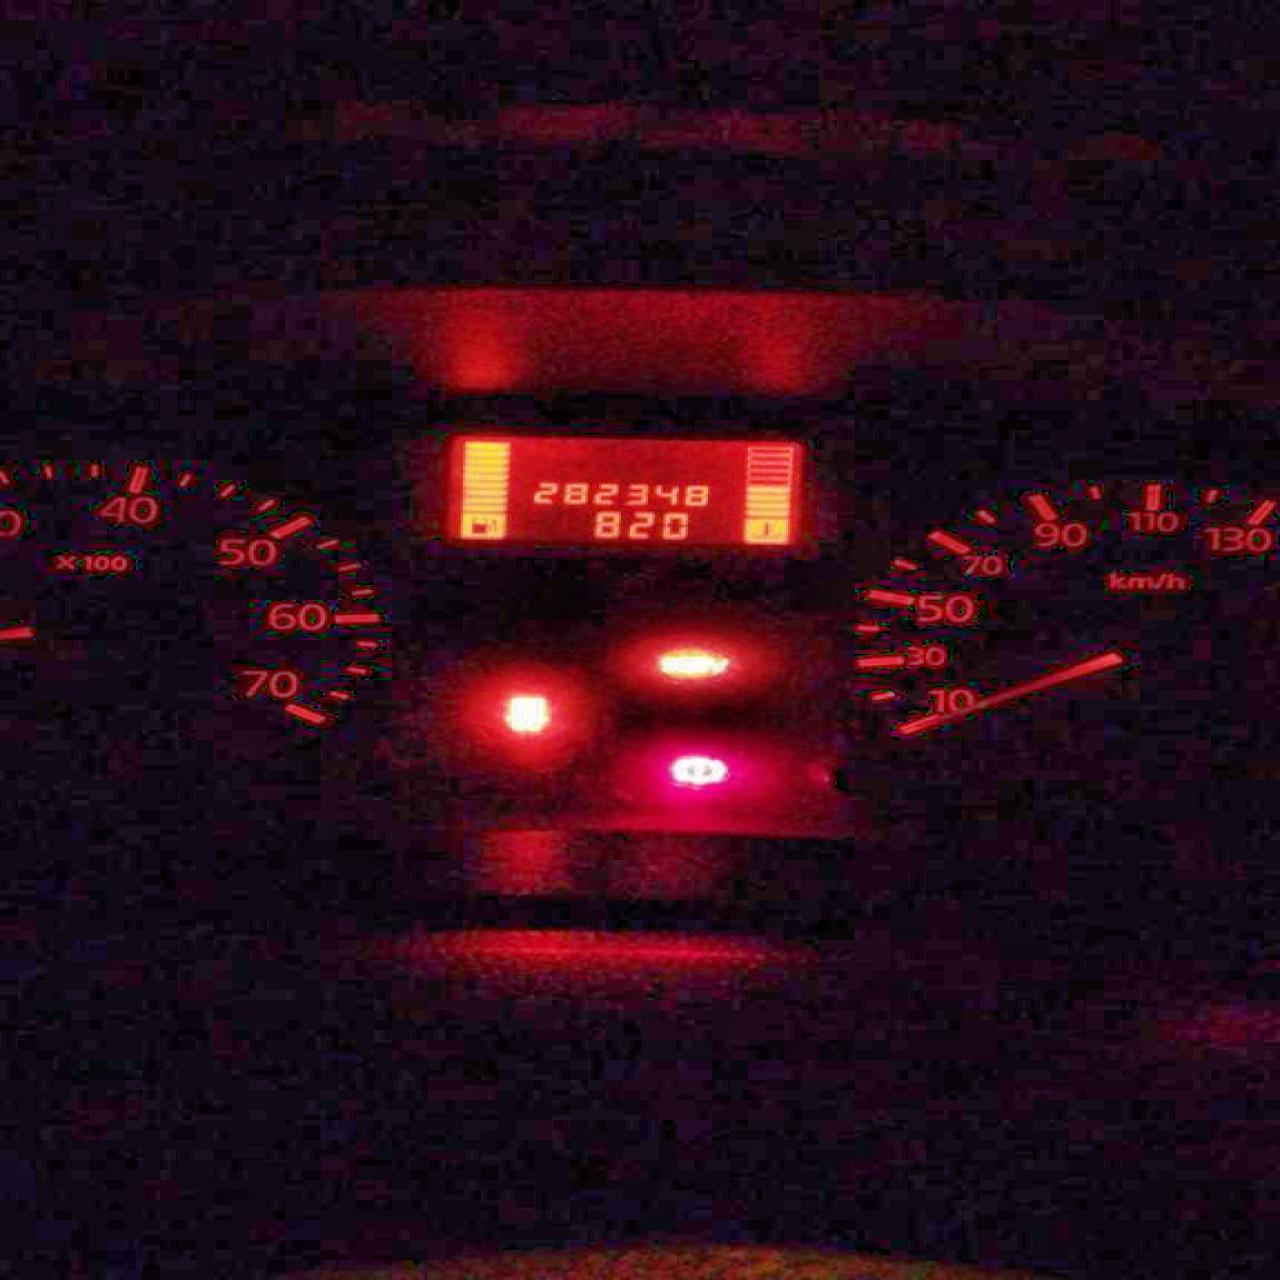0: (659, 510, 688, 539)
2: (626, 510, 654, 538), (530, 479, 557, 502), (591, 482, 617, 504)
3: (624, 483, 646, 505)
4: (652, 483, 679, 505)
8: (590, 509, 619, 538), (681, 484, 708, 506), (561, 482, 587, 504)
odometer: (436, 430, 808, 546)
